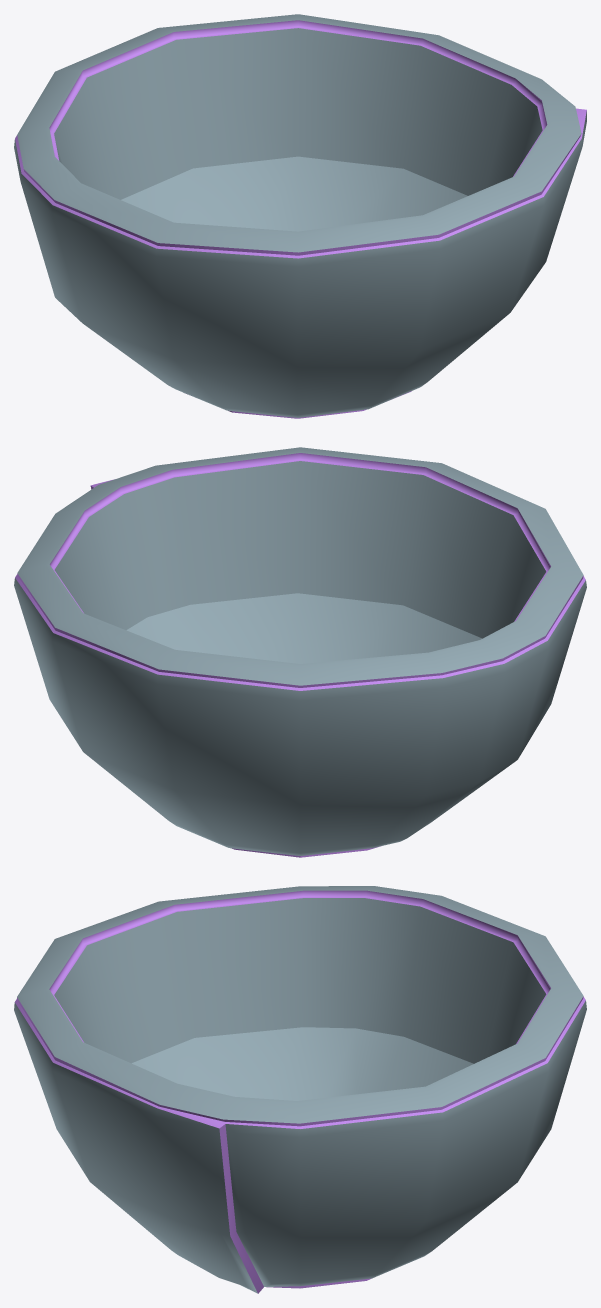
File: bowl.fbx
3 renders of one model, top to bottom at view 1: azimuth 30°, elevation 25°; view 2: azimuth 150°, elevation 25°; view 3: azimuth 270°, elevation 25°, orthographic.
Parts seen in each view (by area): view 1: Sphere001; view 2: Sphere001; view 3: Sphere001.
Boxes of the visible parts, x1,y1,x2,y2 form: Sphere001: (14, 14, 586, 418); Sphere001: (14, 447, 586, 857); Sphere001: (14, 886, 586, 1293).
Size of the model in its own units: 49.51 by 24.28 by 49.25.
